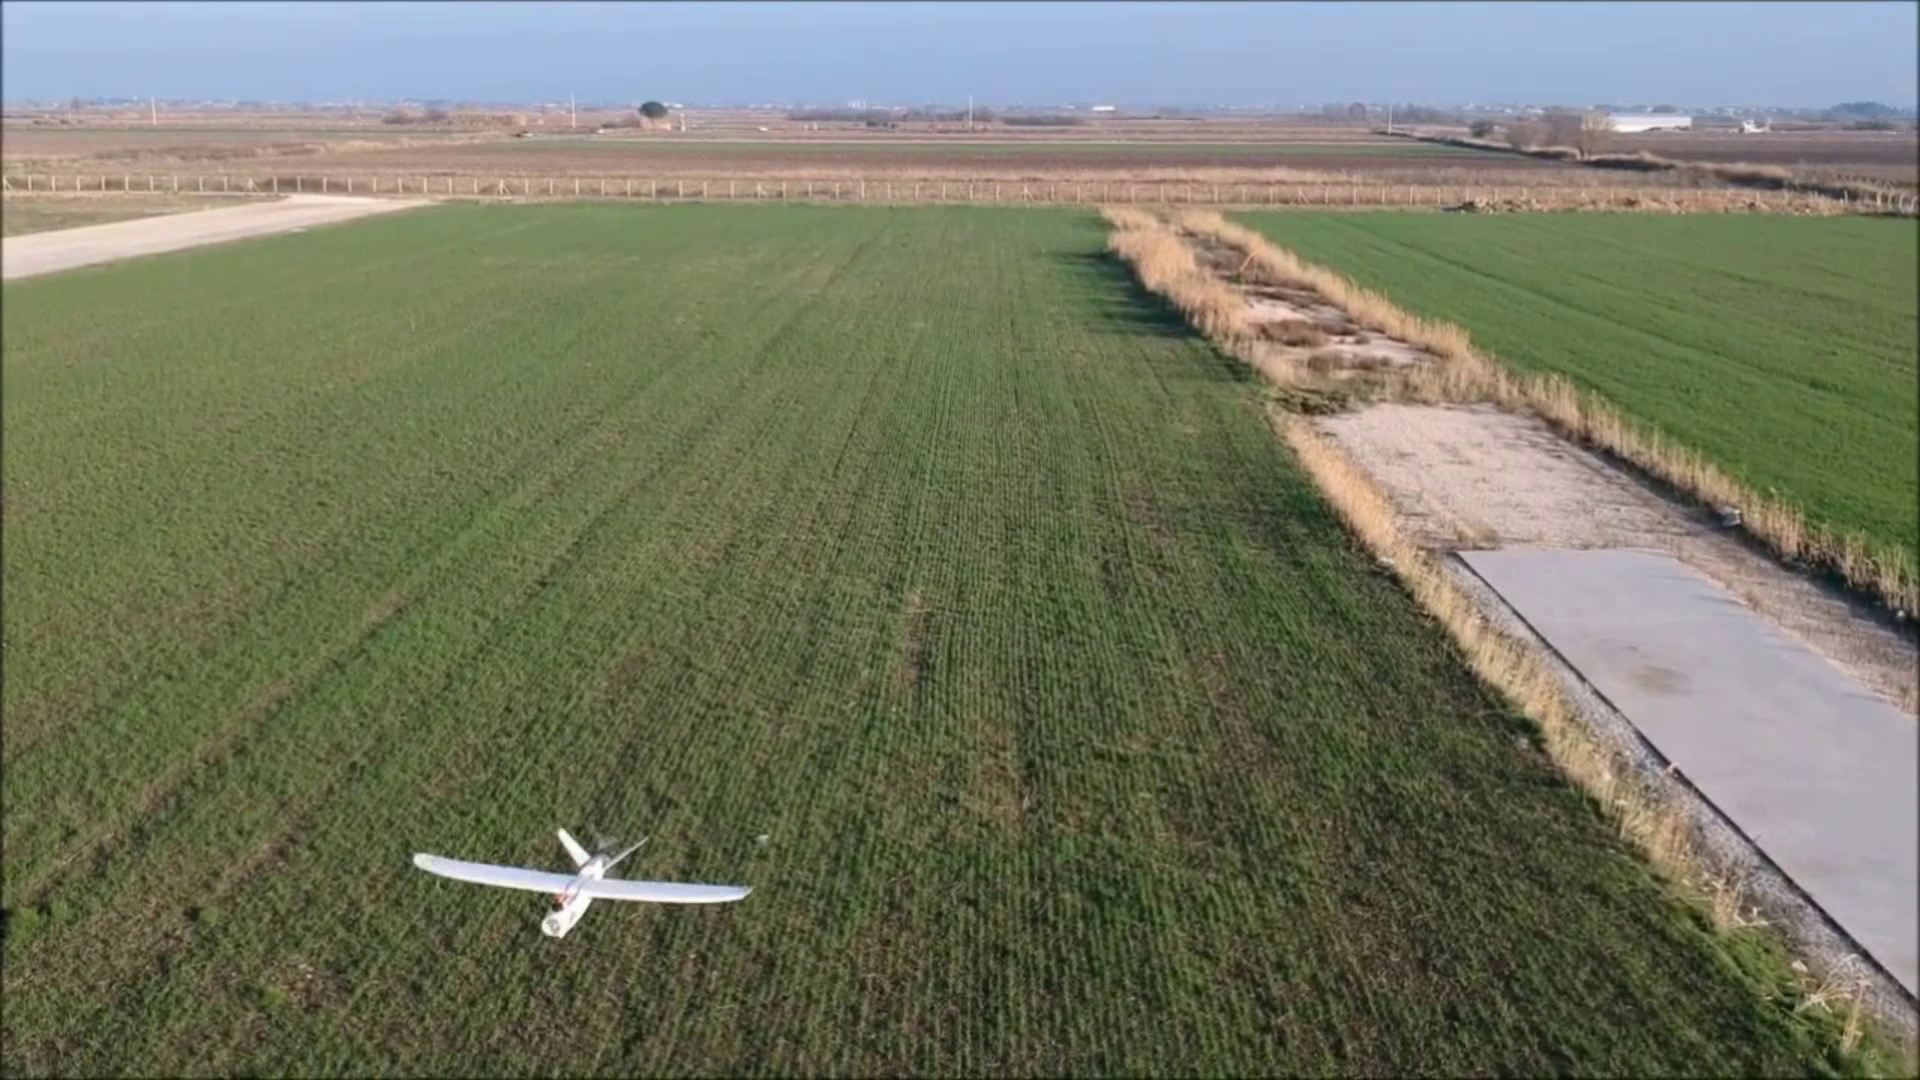airplane: (409, 825, 750, 940)
